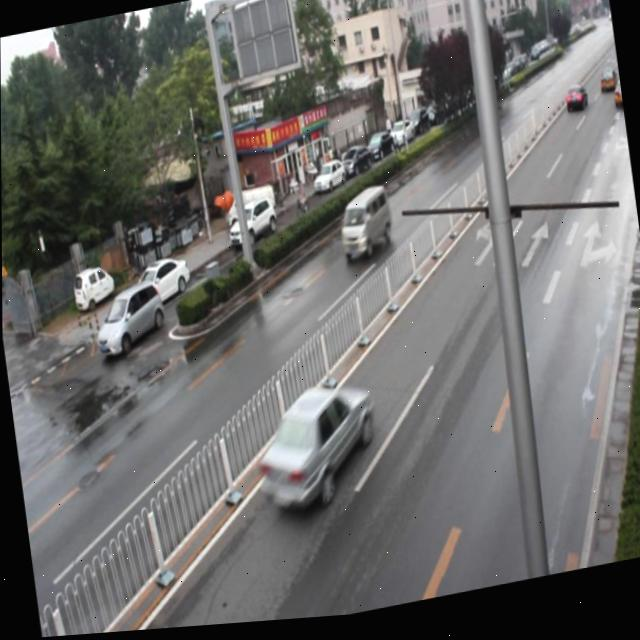car: (249, 383, 381, 522)
truck: (335, 186, 395, 266)
